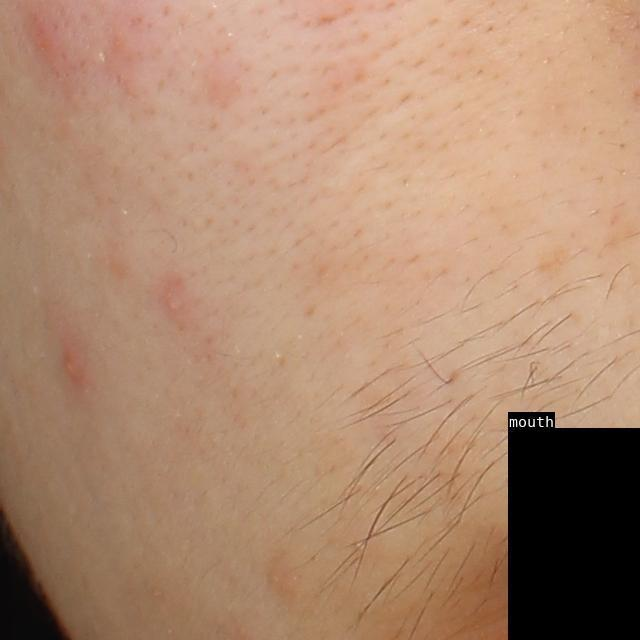papule: (23, 13, 67, 65), (55, 340, 95, 394), (157, 274, 193, 321)
